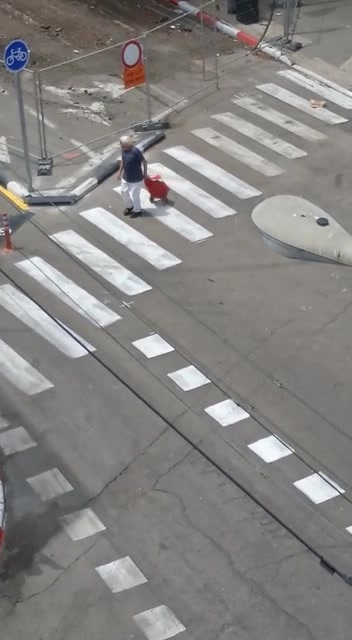crosswalk: (60, 85, 276, 303)
person: (104, 125, 175, 233)
